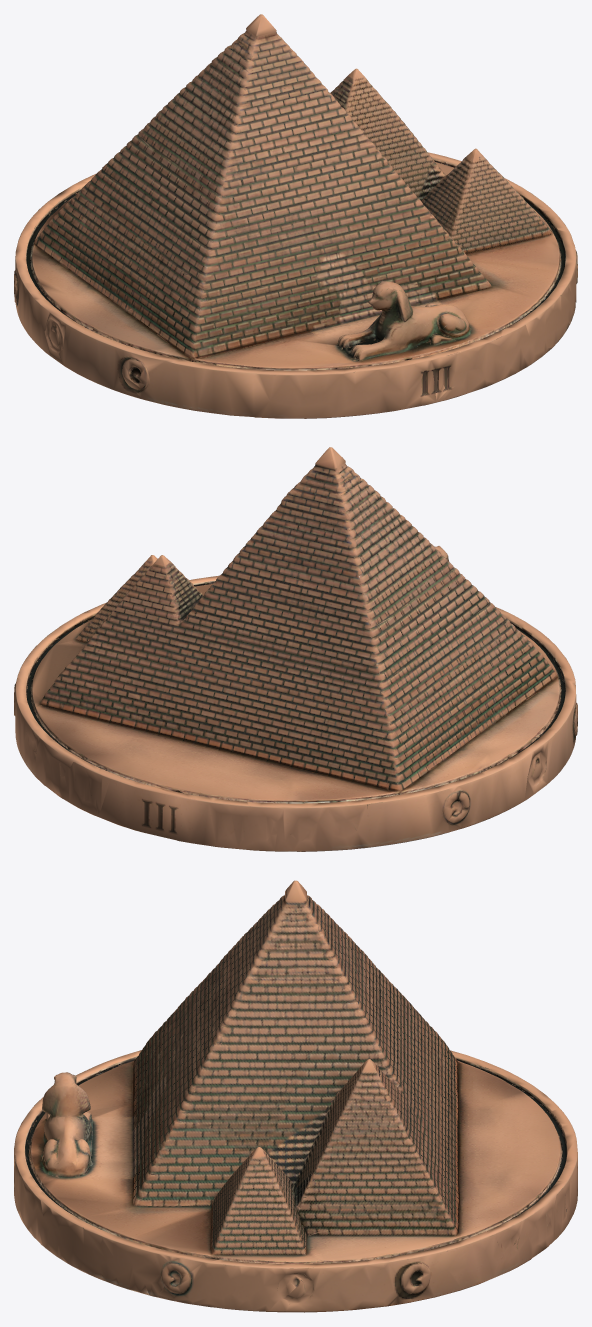
File: pyramid_giza_gold.glb
The picture shows the model from 3 angles, top to bottom: view 1: azimuth 30°, elevation 25°; view 2: azimuth 150°, elevation 25°; view 3: azimuth 270°, elevation 25°; orthographic projection.
Parts seen in each view (by area): view 1: Mesh_0; view 2: Mesh_0; view 3: Mesh_0.
Boxes of the visible parts, box(x1,y1,x2,y2) form: Mesh_0: box(14, 14, 577, 418); Mesh_0: box(14, 447, 577, 851); Mesh_0: box(14, 880, 577, 1312).
Bounding box in the file's own units: 1.9 × 1.11 × 1.91.
Materials: 1 (1 with a texture image).
